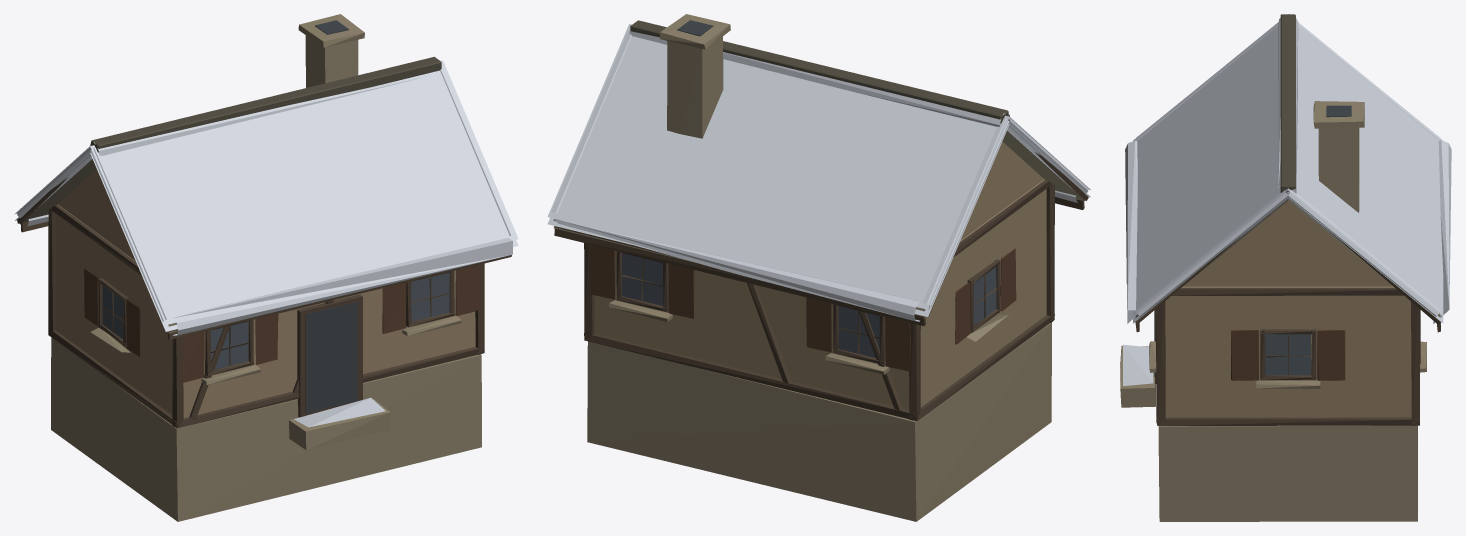
The model's file is house-snow-lod1.glb.
3 renders of one model, left to right at view 1: azimuth 30°, elevation 25°; view 2: azimuth 150°, elevation 25°; view 3: azimuth 270°, elevation 25°, orthographic. The views are drawn at different scales.
Size of the model in its own units: 8.2 by 8.24 by 6.51.
